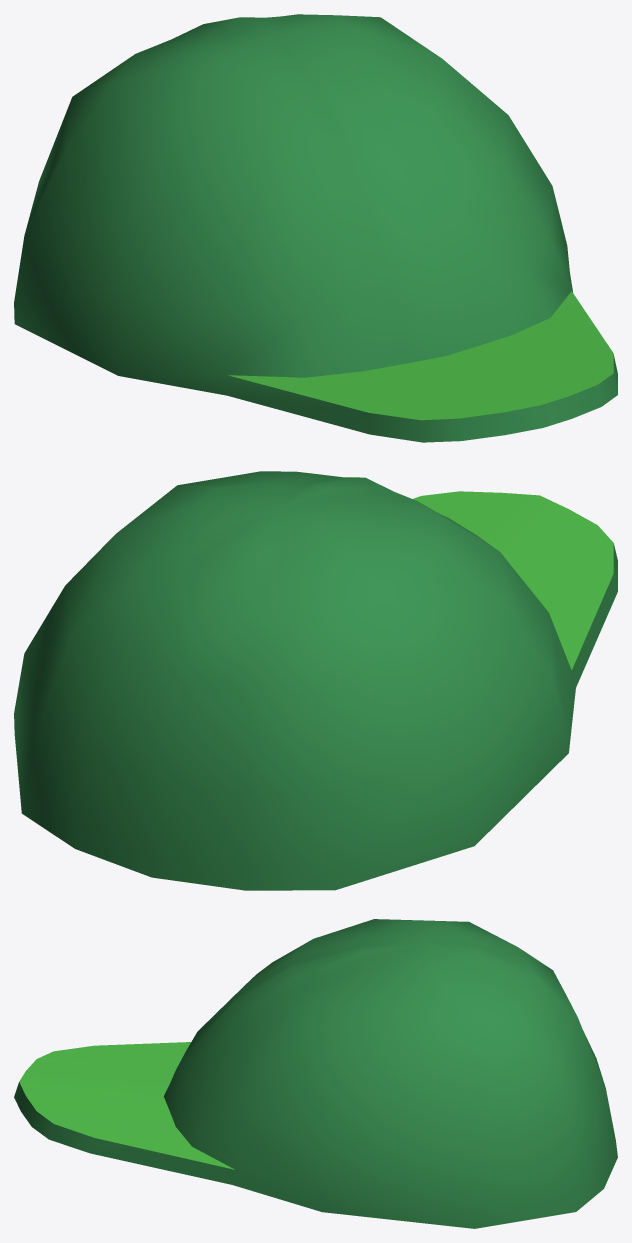
The model's file is Cap.fbx.
3 views of the same model, one above another, from view 1: azimuth 30°, elevation 25°; view 2: azimuth 150°, elevation 25°; view 3: azimuth 270°, elevation 25° (orthographic). The views are drawn at different scales.
Parts seen in each view (by area): view 1: Cap; view 2: Cap; view 3: Cap.
Part boxes in pixels (bbox=[...]): Cap: bbox=[14, 14, 617, 442]; Cap: bbox=[14, 471, 617, 890]; Cap: bbox=[14, 919, 617, 1228].
Bounding box in the file's own units: 17.51 × 10.1 × 25.8.
